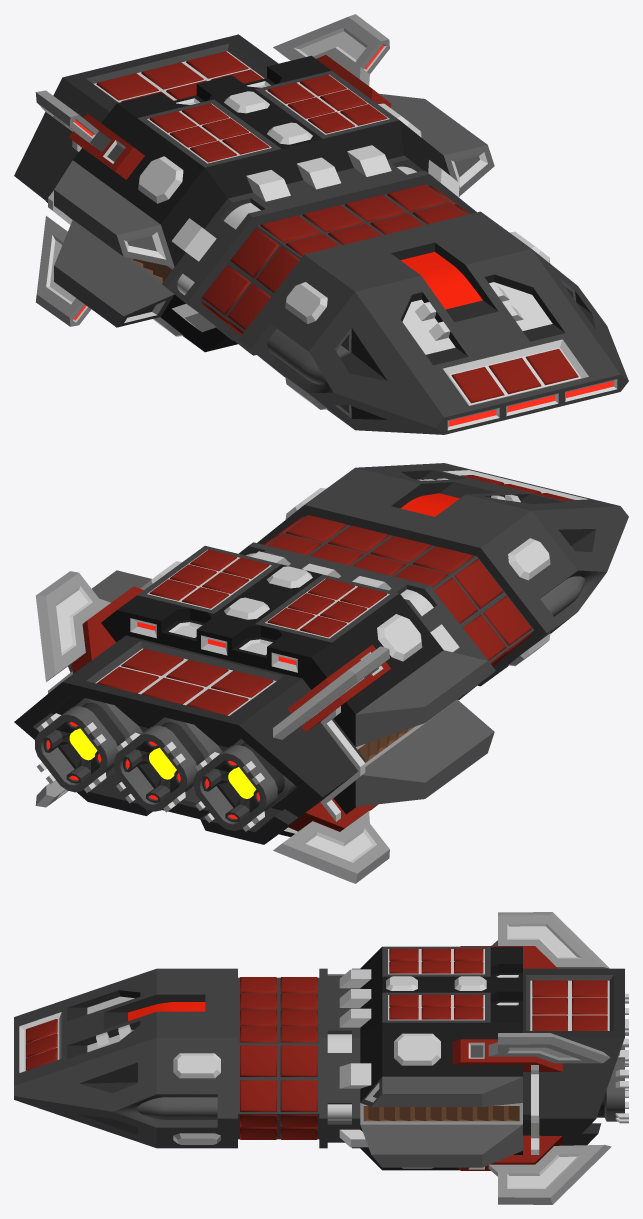
The model's file is Cruiser03.fbx.
3 views of the same model, one above another, from view 1: azimuth 30°, elevation 25°; view 2: azimuth 150°, elevation 25°; view 3: azimuth 270°, elevation 25° (orthographic). The views are drawn at different scales.
Visible parts, largest first — view 1: Mesh_HD; view 2: Mesh_HD; view 3: Mesh_HD.
Part boxes in pixels (x1,y1,x2,y2): Mesh_HD: (14, 14, 628, 434); Mesh_HD: (14, 463, 628, 883); Mesh_HD: (14, 912, 628, 1204).
Bounding box in the file's own units: 1010 × 549 × 1812.
